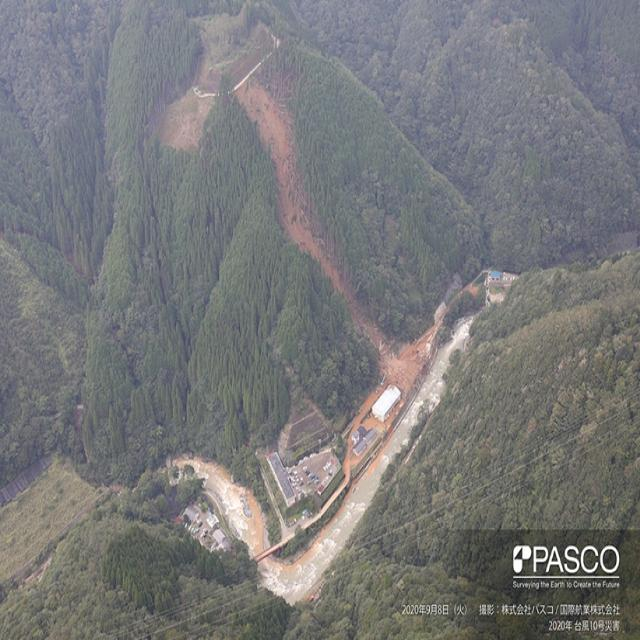Debris-flow: (231, 77, 438, 412), (159, 88, 215, 150), (355, 388, 380, 421)
